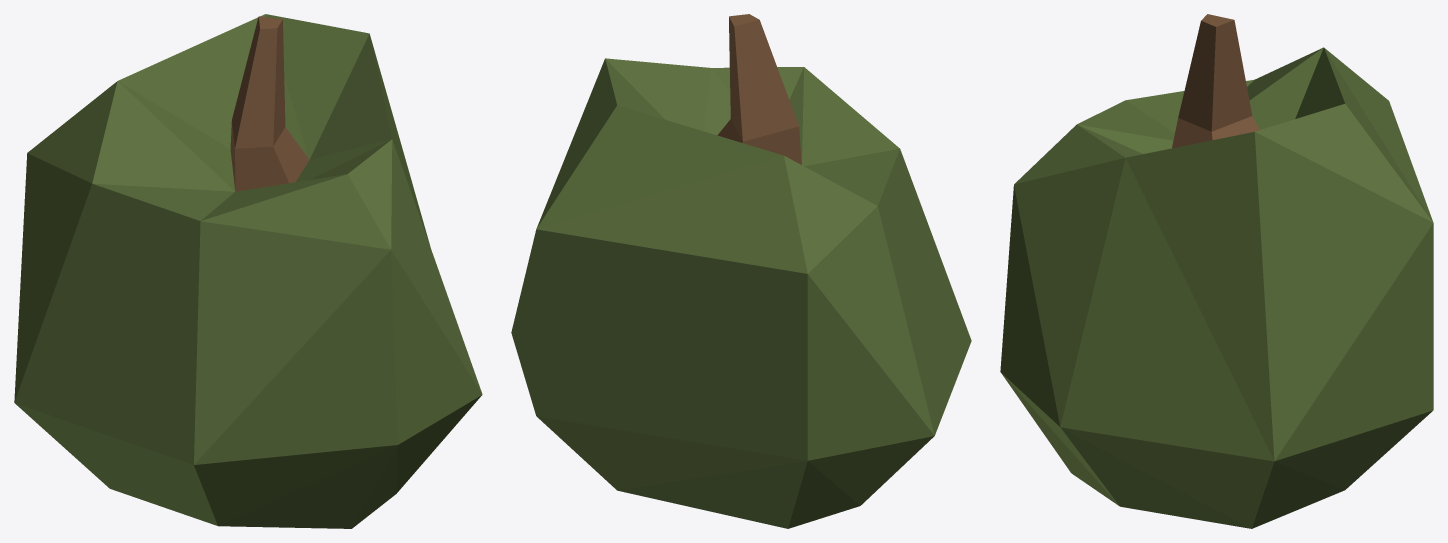
The model's file is fruit_a.glb.
The picture shows the model from 3 angles, left to right: view 1: azimuth 30°, elevation 25°; view 2: azimuth 150°, elevation 25°; view 3: azimuth 270°, elevation 25°; orthographic projection.
Visible parts, largest first — view 1: SM_Item_Fruit_01; view 2: SM_Item_Fruit_01; view 3: SM_Item_Fruit_01.
Boxes of the visible parts, bbox=[...] form: SM_Item_Fruit_01: bbox=[14, 14, 482, 528]; SM_Item_Fruit_01: bbox=[511, 14, 971, 528]; SM_Item_Fruit_01: bbox=[1000, 14, 1433, 528].
Bounding box in the file's own units: 17.72 × 18.07 × 15.65.
Materials: 1 (1 with a texture image).
